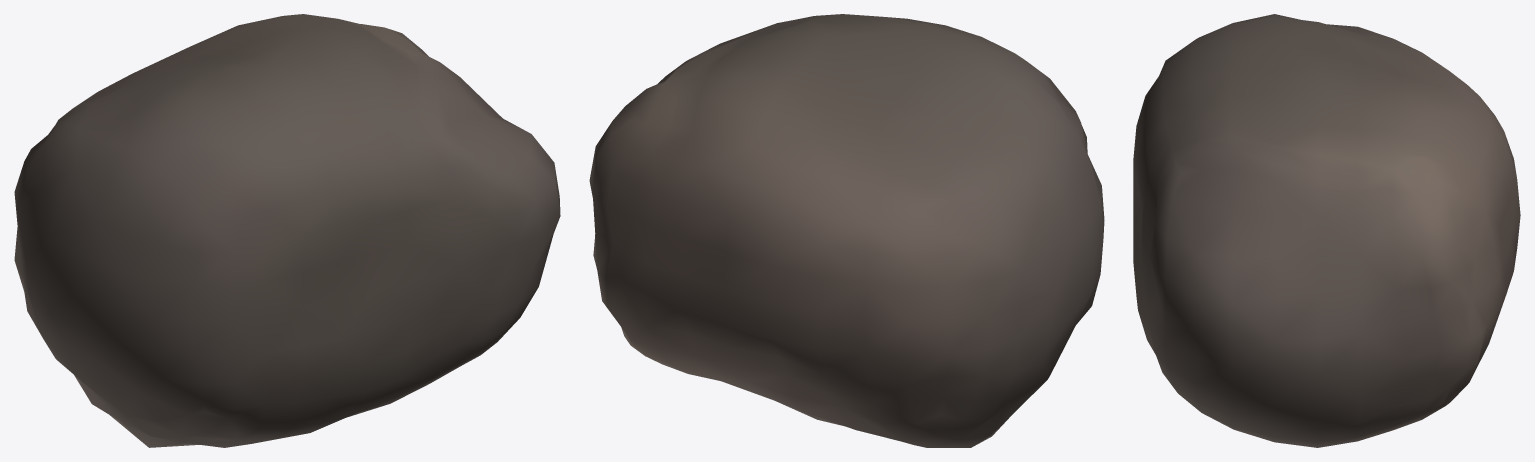
The model's file is RockLarge.010.glb.
3 renders of one model, left to right at view 1: azimuth 30°, elevation 25°; view 2: azimuth 150°, elevation 25°; view 3: azimuth 270°, elevation 25°, orthographic. The views are drawn at different scales.
Parts seen in each view (by area): view 1: RockLarge.010; view 2: RockLarge.010; view 3: RockLarge.010.
Boxes of the visible parts, x1,y1,x2,y2 form: RockLarge.010: (14,14,560,447); RockLarge.010: (589,14,1104,447); RockLarge.010: (1133,14,1520,447).
Bounding box in the file's own units: 970 × 743 × 721.
